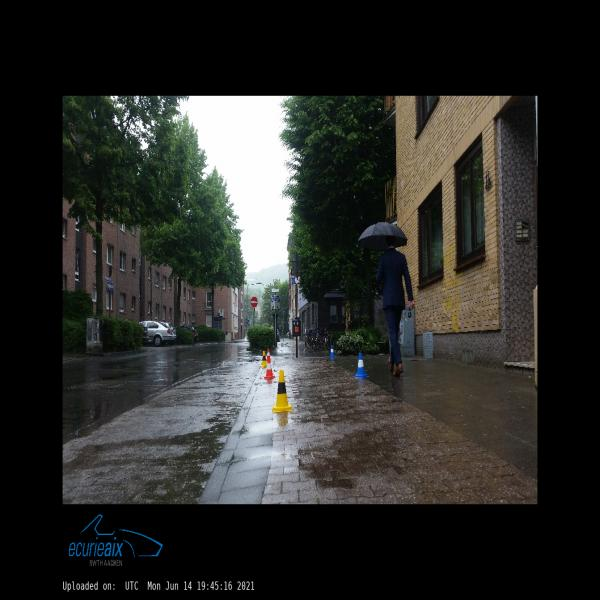blue_cone: (354, 353, 368, 378), (329, 345, 335, 357)
orange_cone: (264, 357, 275, 379), (266, 349, 271, 360)
yellow_cone: (272, 371, 292, 412), (261, 351, 267, 367)
